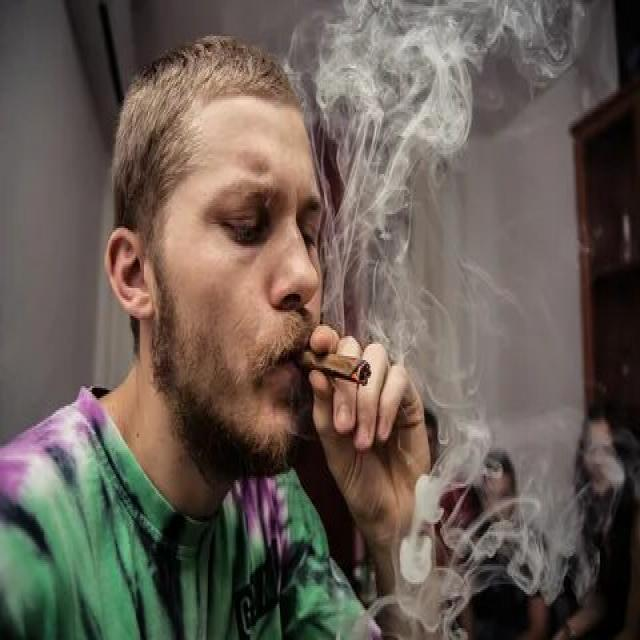smoke: (288, 340, 375, 390)
